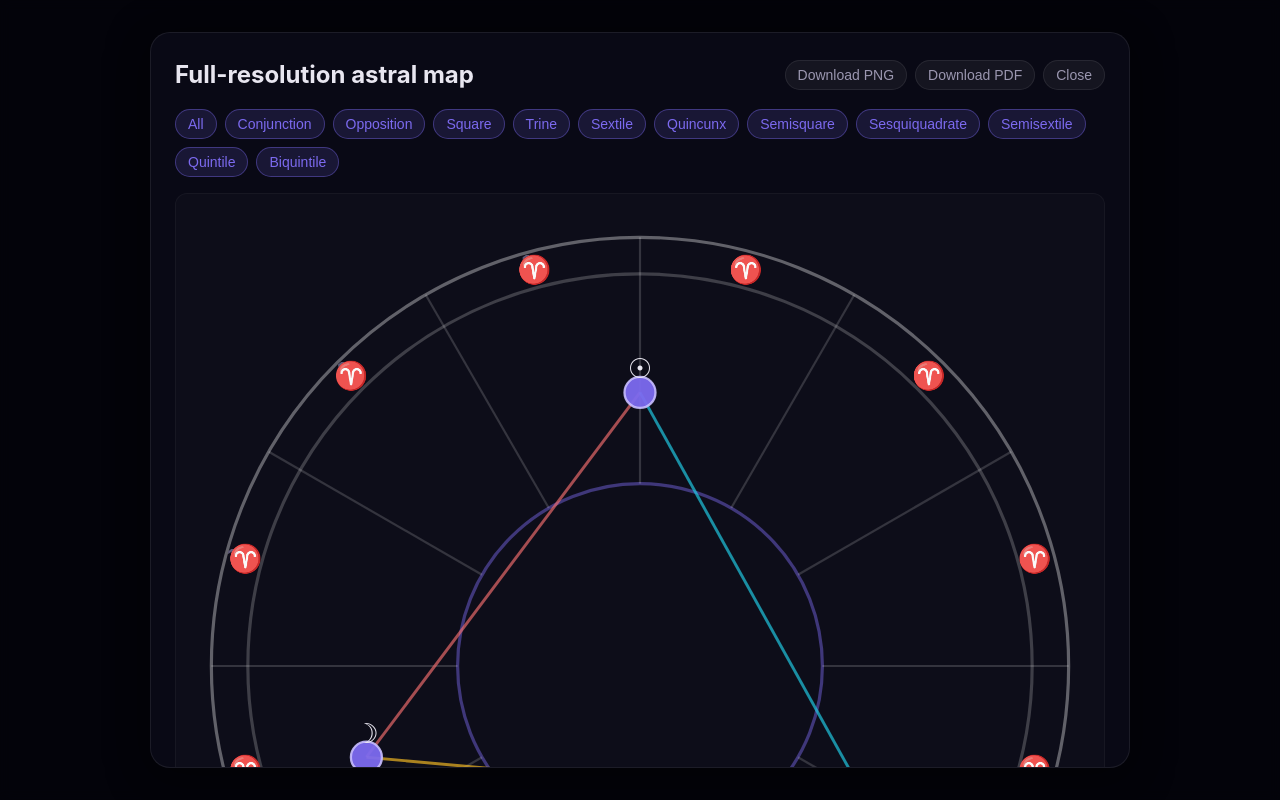
Test: AstralMapModal › exports PDF and shows success feedback
Click the button "Download PDF". click: (975, 75)
box: left=915, top=60, right=1035, bottom=90
(page scrolled)
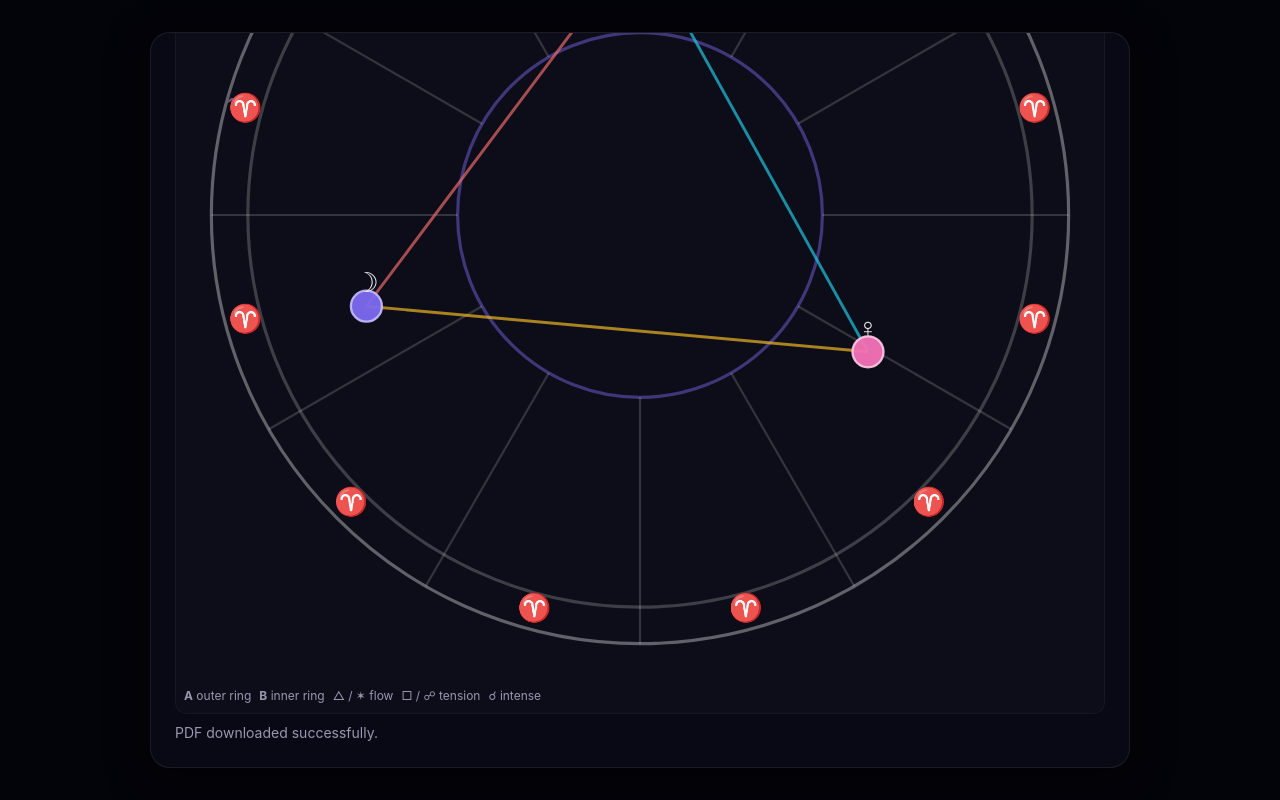
Now the text "PDF downloaded successfully." is shown, box left=175, top=724, right=378, bottom=741
